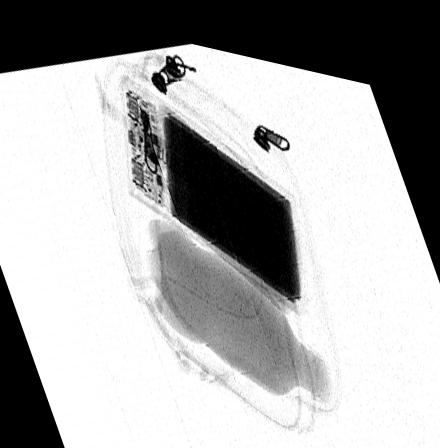Powerbank: (117, 70, 306, 298)
